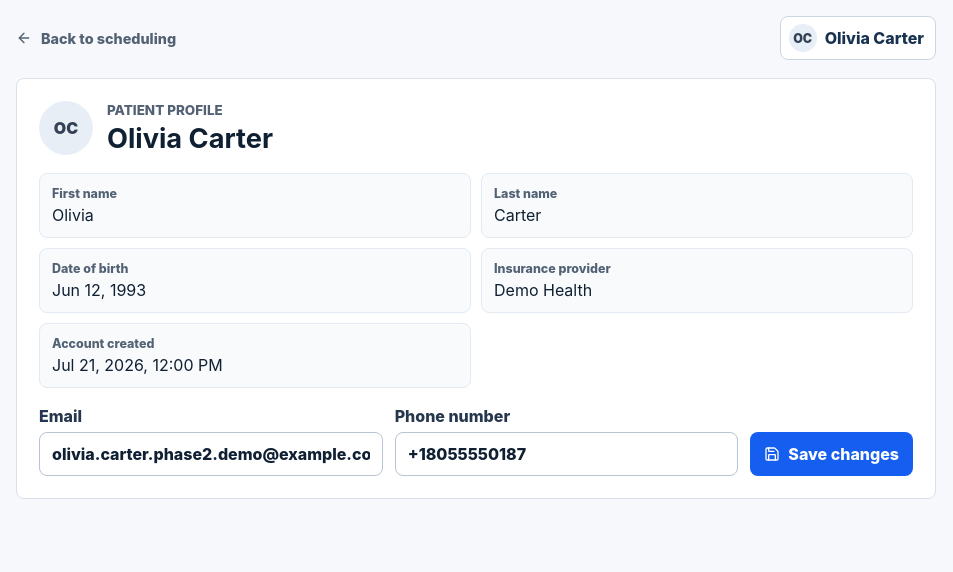
it: displays structured validation errors without changing read-only fields
Expected: the field labelled "Email" holds "olivia.carter.phase2.demo@example.com", [39, 432, 383, 476]
Click the button "Save changes". click: (832,454)
box: [750, 432, 913, 476]
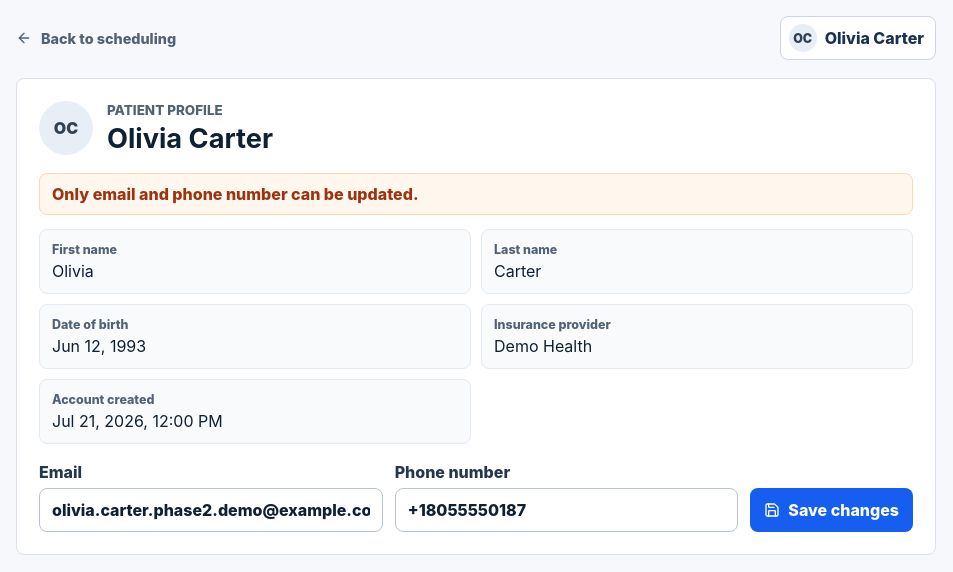
Expected: the heading "Olivia Carter" is shown, [107, 122, 273, 154]
Expected: the message reads "Only email and phone number can be updated.", [52, 184, 419, 204]
